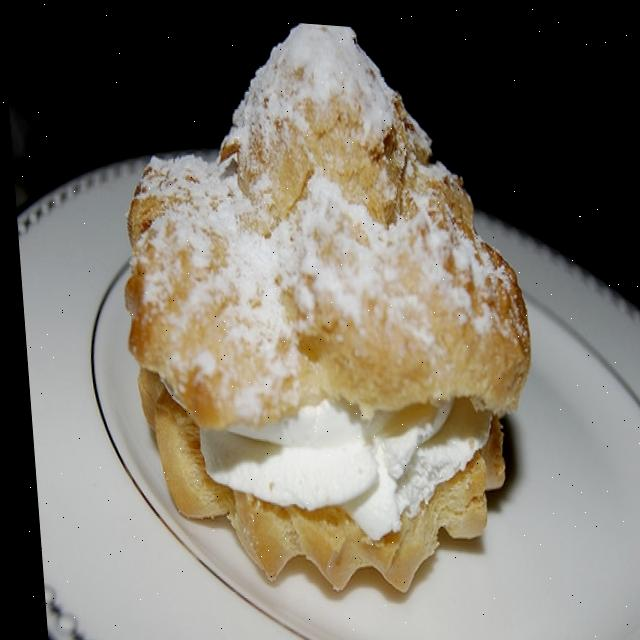炸货点心: (7, 0, 640, 640)
蛋糕甜品: (7, 0, 640, 640)
